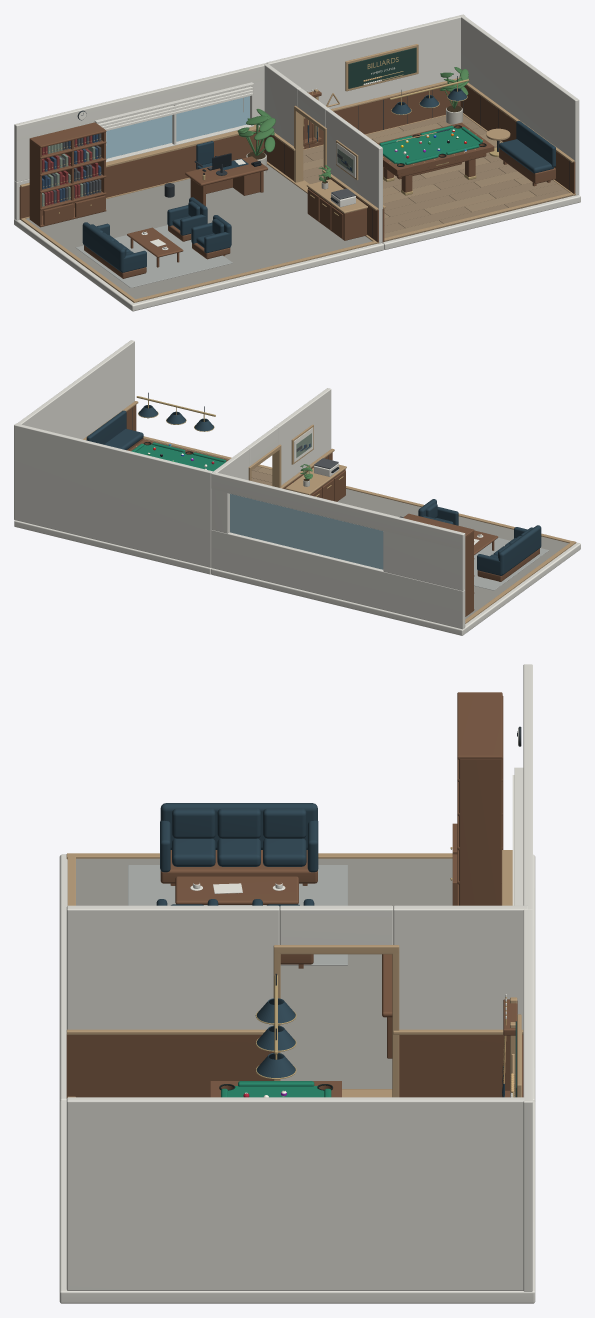
The model's file is office.glb.
The picture shows the model from 3 angles, top to bottom: view 1: azimuth 30°, elevation 25°; view 2: azimuth 150°, elevation 25°; view 3: azimuth 270°, elevation 25°; orthographic projection. The views are drawn at different scales.
Parts seen in each view (by area): view 1: Room / carpet finish, Billiards room / north wall, Billiards room / east wall, North wall / upper lintel, Window / glazing, North wall / walnut wainscot, Room / base slab, Shared wall / south, Billiards room / north wainscot, Reception / area rug, Billiards room / east wainscot, Shared wall / north (+52 smaller); view 2: Billiards room / north wall, North wall / lower solid, Window / glazing, Billiards room / east wall, North wall / upper lintel, North wall / left pier, Room / base slab, Room / carpet finish, Shared wall / south, Billiards room / base slab, Reception / three seat sofa / back, Pool table / green baize bed (+13 smaller); view 3: Billiards room / east wall, Shared wall / south, Room / carpet finish, Shared wall / north, Shared wall / billiards wainscot south, Billiards room / base slab, Shared wall / billiards wainscot north, Bookcase / upright.002, Shared opening / lintel, Billiards room / north wall, Reception / area rug, Reception / coffee table (+17 smaller).
Boxes of the visible parts, left/top/right/bottom form: Room / carpet finish: left=26, top=164, right=373, bottom=299; Billiards room / north wall: left=266, top=14, right=465, bottom=109; Billiards room / east wall: left=461, top=16, right=579, bottom=195; North wall / upper lintel: left=14, top=63, right=266, bottom=141; Window / glazing: left=106, top=96, right=249, bottom=158; North wall / walnut wainscot: left=19, top=130, right=264, bottom=219; Room / base slab: left=14, top=219, right=383, bottom=311; Shared wall / south: left=326, top=109, right=382, bottom=243; Billiards room / north wainscot: left=303, top=83, right=460, bottom=149; Reception / area rug: left=76, top=225, right=232, bottom=287; Billiards room / east wainscot: left=460, top=85, right=575, bottom=195; Shared wall / north: left=264, top=63, right=300, bottom=146; Billiards room / north wall: left=14, top=423, right=212, bottom=567; North wall / lower solid: left=211, top=530, right=465, bottom=629; Window / glazing: left=230, top=494, right=383, bottom=569; Billiards room / east wall: left=17, top=340, right=134, bottom=439; North wall / upper lintel: left=211, top=472, right=465, bottom=549; North wall / left pier: left=383, top=531, right=465, bottom=590; Room / base slab: left=211, top=542, right=580, bottom=635; Room / carpet finish: left=337, top=489, right=568, bottom=618; Shared wall / south: left=274, top=388, right=331, bottom=485; Billiards room / base slab: left=14, top=520, right=211, bottom=574; Reception / three seat sofa / back: left=498, top=525, right=541, bottom=575; Pool table / green baize bed: left=135, top=444, right=225, bottom=471; Billiards room / east wall: left=66, top=1097, right=524, bottom=1290; Shared wall / south: left=66, top=905, right=279, bottom=1029; Room / carpet finish: left=76, top=858, right=452, bottom=1088; Shared wall / north: left=393, top=905, right=527, bottom=1029; Shared wall / billiards wainscot south: left=66, top=1034, right=273, bottom=1098; Billiards room / base slab: left=59, top=1100, right=535, bottom=1303; Shared wall / billiards wainscot north: left=399, top=1035, right=509, bottom=1097; Bookcase / upright.002: left=459, top=759, right=502, bottom=905; Shared opening / lintel: left=279, top=905, right=393, bottom=944; Billiards room / north wall: left=523, top=909, right=532, bottom=1291; Reception / area rug: left=128, top=865, right=347, bottom=965; Reception / coffee table: left=175, top=876, right=298, bottom=904.
Size of the model in its own units: 14.62 by 3.23 by 6.7.
